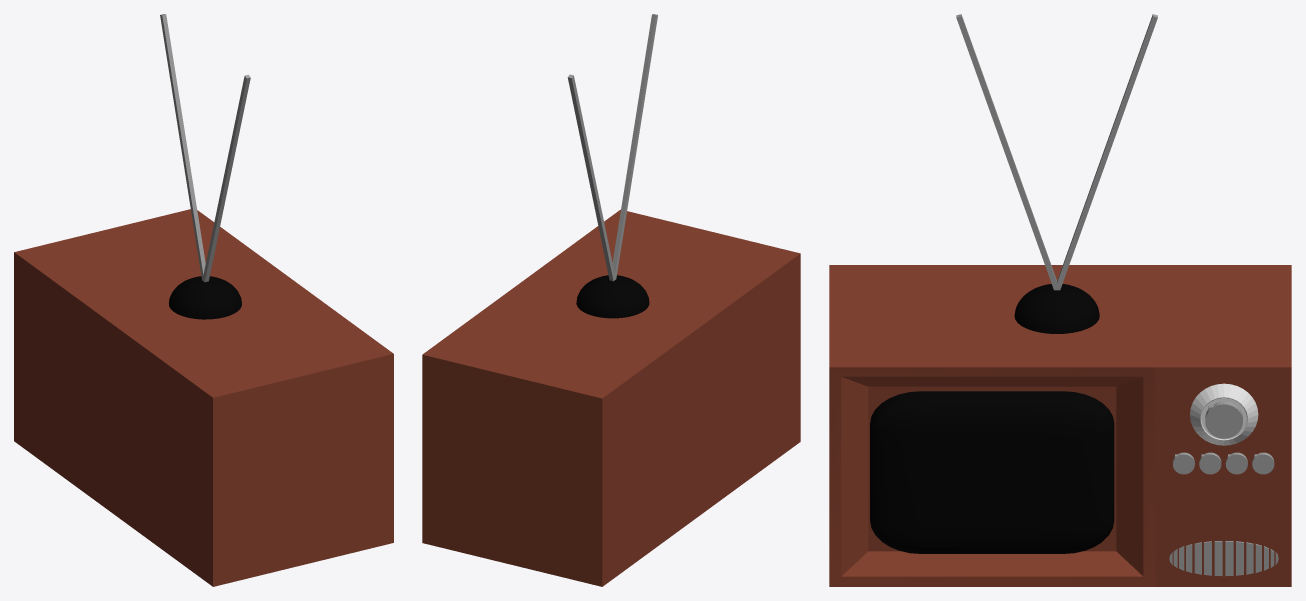
File: tvBLE.fbx
The picture shows the model from 3 angles, left to right: view 1: azimuth 30°, elevation 25°; view 2: azimuth 150°, elevation 25°; view 3: azimuth 270°, elevation 25°; orthographic projection. The views are drawn at different scales.
Parts seen in each view (by area): view 1: Cube, Sphere, Cube.001, Cube.002; view 2: Cube, Sphere, Cube.002, Cube.001; view 3: Cube, Cube.003, Sphere, Circle.001, Cube.002, Cube.001, Circle.002, Circle.
Part boxes in pixels (box(x1,y1,x2,y2)): Cube: box(14, 209, 393, 586); Sphere: box(169, 276, 241, 319); Cube.001: box(160, 14, 205, 281); Cube.002: box(203, 74, 250, 282); Cube: box(422, 209, 800, 586); Sphere: box(576, 275, 649, 318); Cube.002: box(612, 14, 657, 278); Cube.001: box(567, 74, 615, 281); Cube: box(829, 265, 1291, 586); Cube.003: box(870, 391, 1114, 553); Sphere: box(1014, 284, 1099, 333); Circle.001: box(1190, 383, 1258, 445); Cube.002: box(956, 14, 1059, 290); Cube.001: box(1057, 14, 1157, 289); Circle.002: box(1173, 452, 1274, 474); Circle: box(1205, 401, 1242, 438).
Bounding box in the file's own units: 213 × 474 × 382.
